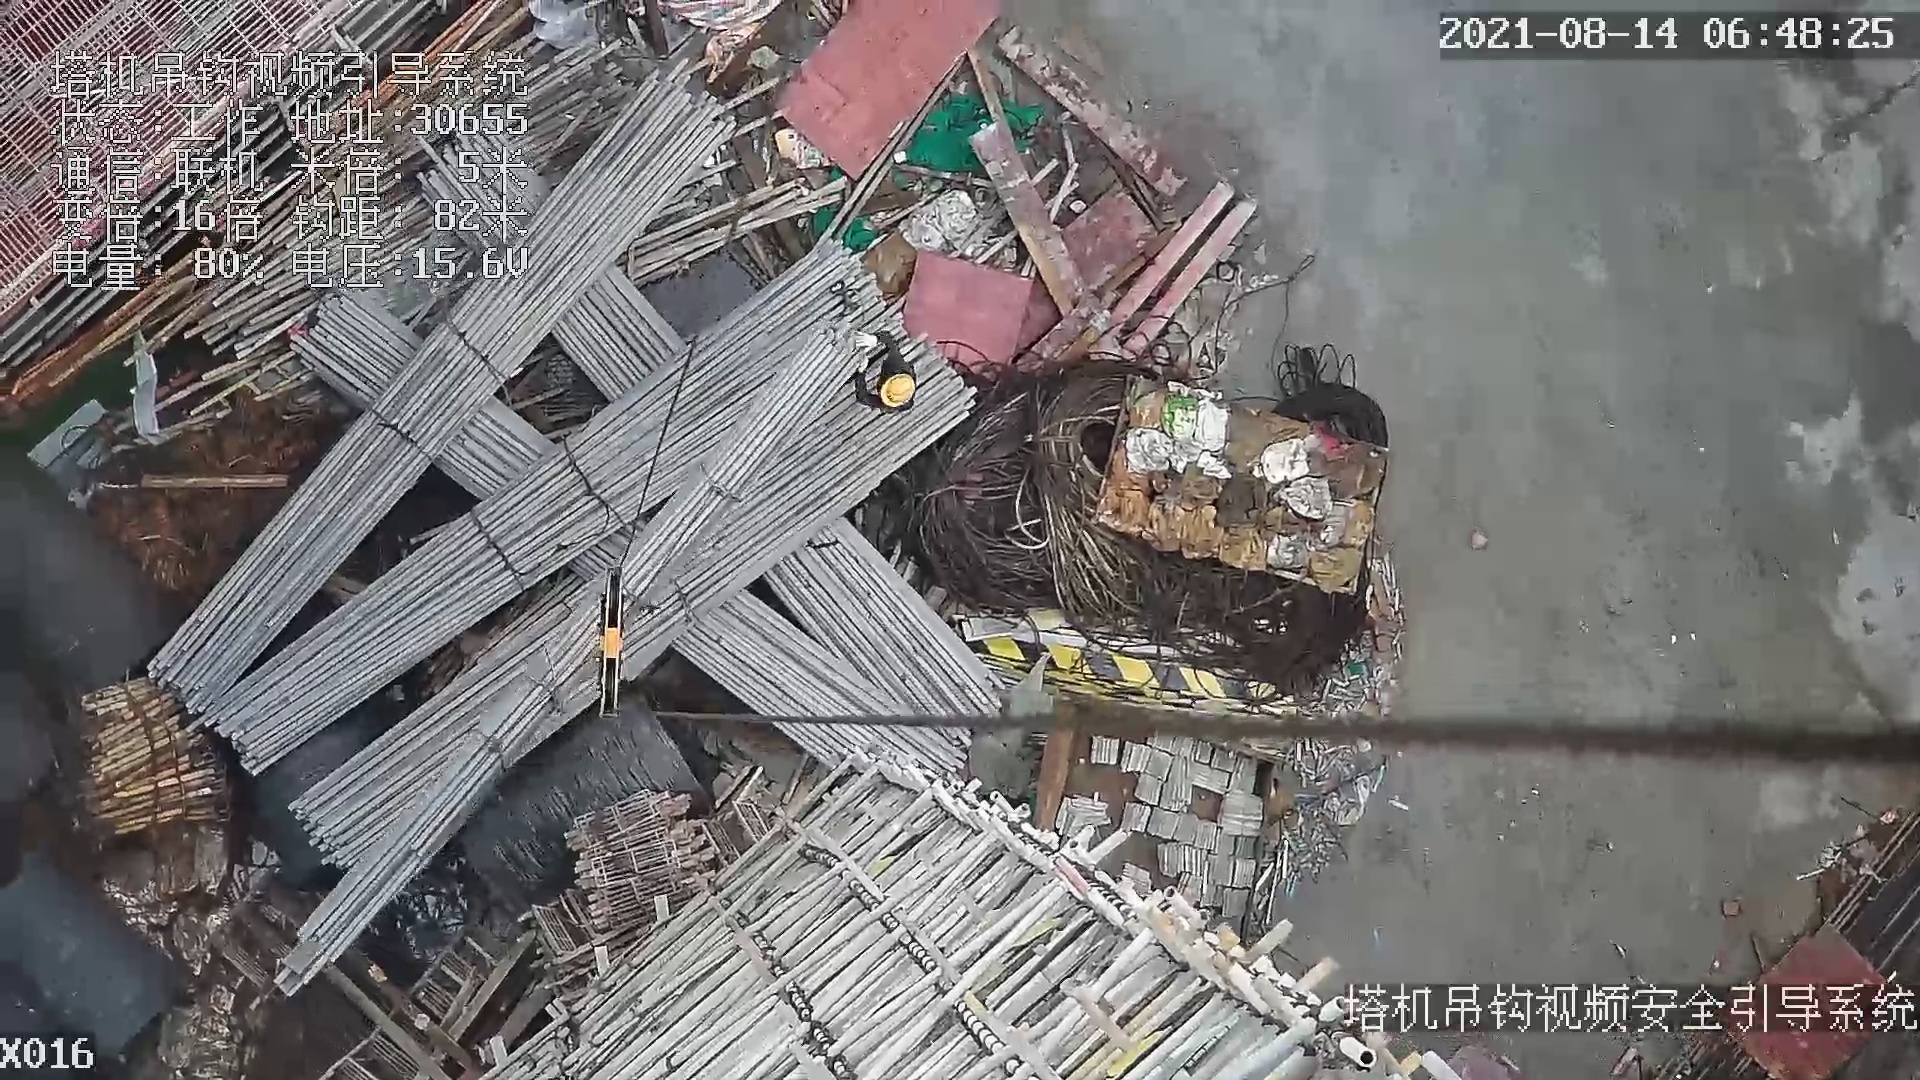board: (774, 1, 1001, 183)
helmet: (878, 368, 922, 411)
hook: (587, 564, 632, 719)
person: (841, 324, 918, 419)
scaffold: (74, 676, 237, 846)
